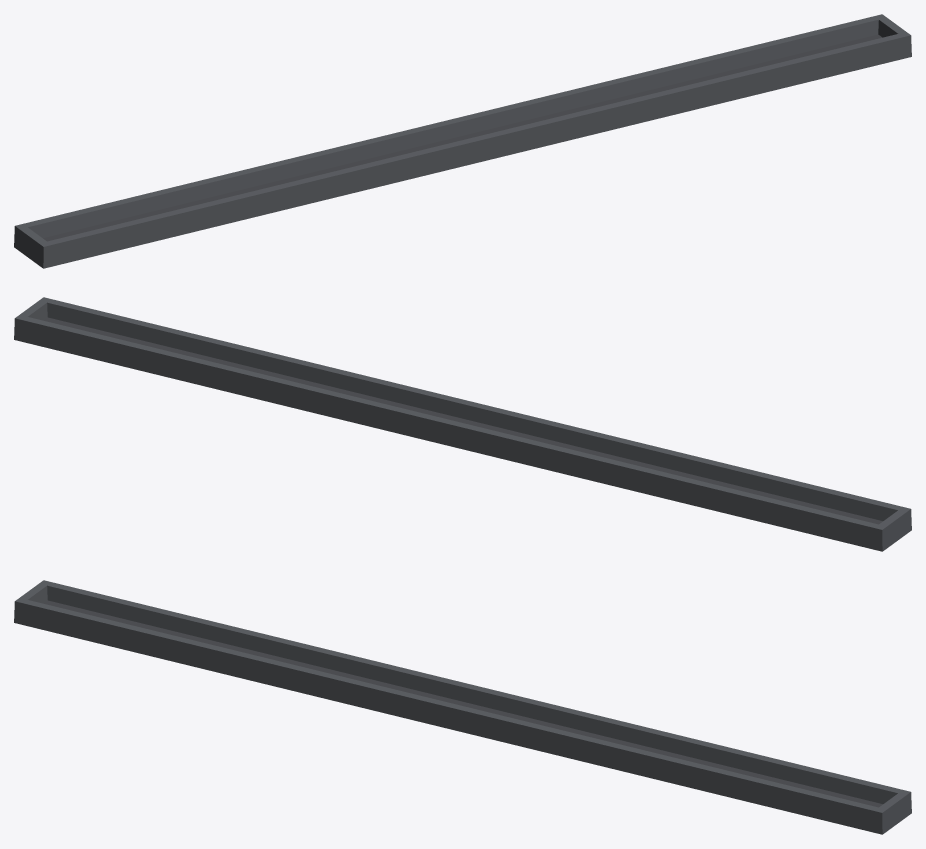
File: SM_Obstacle_02_B_Base.fbx
The picture shows the model from 3 angles, top to bottom: view 1: azimuth 30°, elevation 25°; view 2: azimuth 150°, elevation 25°; view 3: azimuth 330°, elevation 25°; orthographic projection.
Visible parts, largest first — view 1: pCube595; view 2: pCube595; view 3: pCube595.
Part boxes in pixels (x1=…): pCube595: x1=14, y1=14, x2=911, y2=268; pCube595: x1=14, y1=297, x2=911, y2=551; pCube595: x1=14, y1=580, x2=911, y2=834.
Size of the model in its own units: 402 by 9.51 by 23.61.
1 material, 1 textured.
